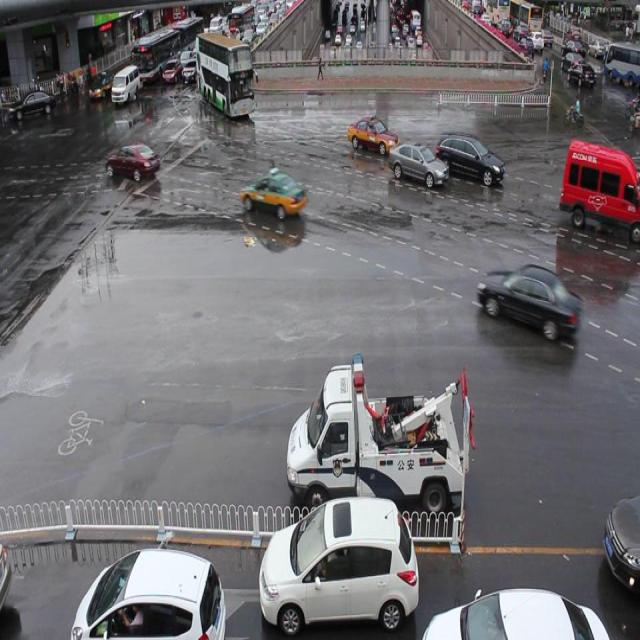bus: (286, 354, 472, 522)
car: (258, 494, 418, 632), (74, 545, 225, 640), (421, 583, 608, 640), (476, 263, 578, 340), (435, 133, 503, 188), (604, 494, 640, 590), (239, 170, 306, 220), (388, 141, 448, 190), (588, 168, 640, 215), (347, 115, 399, 159), (105, 144, 160, 182)
truck: (558, 137, 640, 242)
van: (193, 33, 255, 119)
